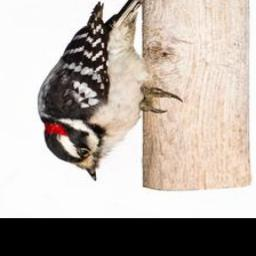Woodpecker: (37, 2, 182, 182)
